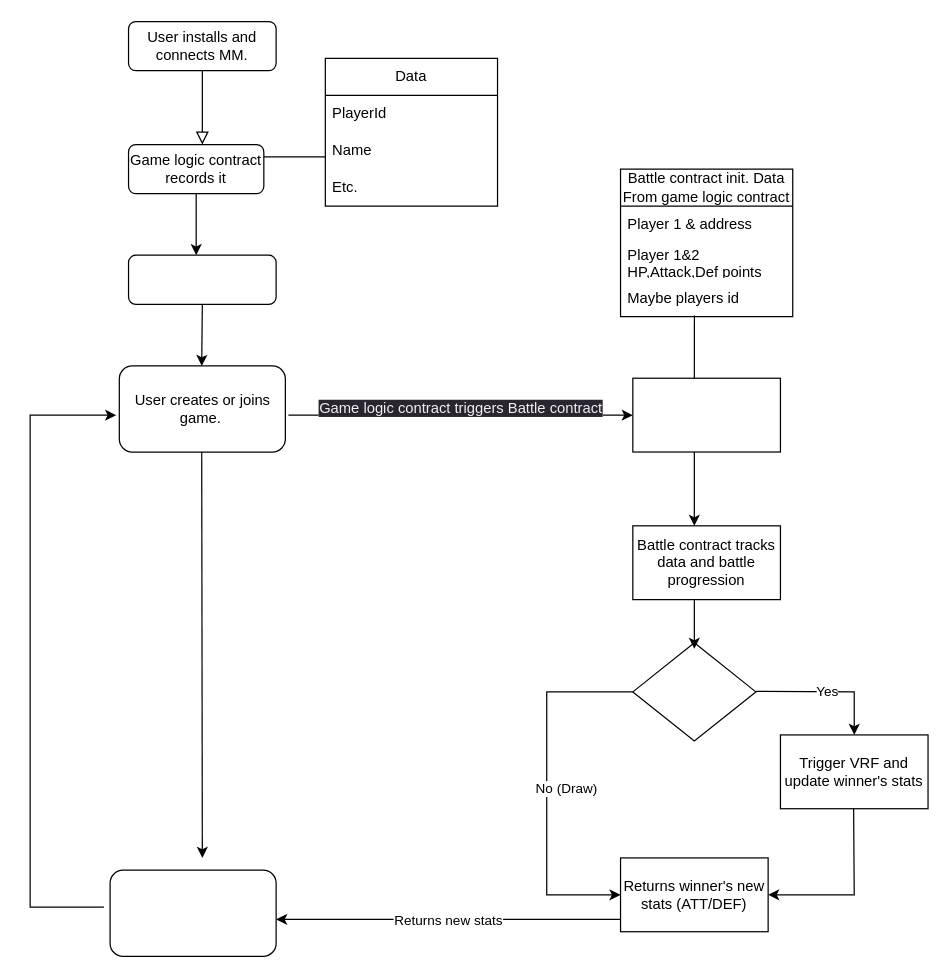
This 950x978 diagram has some shape labels left out. The shapes that lost their labels are listed below. From the top down, each one's centre as x and y in pixels, then its label:
(201,279): NFT gets minted and tied to player address
(706,414): Battle contract initiated
(694,691): Winner?
(192,912): Game logic contract receives winner stats and updates Player struct for player.
